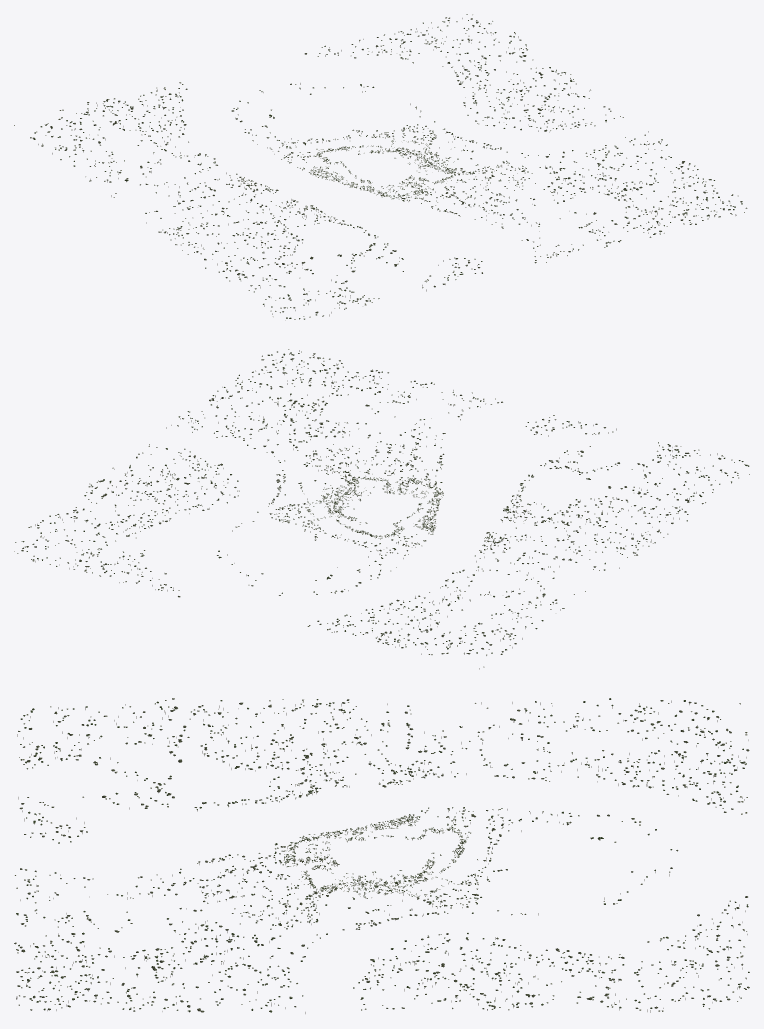
The model's file is optus_backdrop_part2.glb.
The picture shows the model from 3 angles, top to bottom: view 1: azimuth 30°, elevation 25°; view 2: azimuth 150°, elevation 25°; view 3: azimuth 270°, elevation 25°; orthographic projection. The views are drawn at different scales.
Visible parts, largest first — view 1: bg_trees_joined_s08, bg_trees_joined_s12, bg_trees_joined_s11, bg_trees_joined_s10, bg_trees_joined_s15, bg_trees_joined_s14, bg_trees_joined_s09; view 2: bg_trees_joined_s08, bg_trees_joined_s12, bg_trees_joined_s11, bg_trees_joined_s10, bg_trees_joined_s15, bg_trees_joined_s14, bg_trees_joined_s09; view 3: bg_trees_joined_s08, bg_trees_joined_s12, bg_trees_joined_s11, bg_trees_joined_s10, bg_trees_joined_s15, bg_trees_joined_s14, bg_trees_joined_s09, bg_trees_joined_s03, bg_trees_joined_s02, bg_trees_joined_s13, bg_trees_joined_s04.
Boxes of the visible parts, box(x1,y1,x2,y2) form: bg_trees_joined_s08: box(158, 193, 346, 320); bg_trees_joined_s12: box(420, 20, 611, 130); bg_trees_joined_s11: box(506, 116, 747, 208); bg_trees_joined_s10: box(454, 184, 744, 263); bg_trees_joined_s15: box(14, 125, 270, 223); bg_trees_joined_s14: box(45, 82, 274, 144); bg_trees_joined_s09: box(287, 224, 482, 319); bg_trees_joined_s08: box(509, 465, 749, 557); bg_trees_joined_s12: box(15, 452, 241, 548); bg_trees_joined_s11: box(148, 351, 344, 470); bg_trees_joined_s10: box(284, 349, 502, 457); bg_trees_joined_s15: box(440, 533, 619, 667); bg_trees_joined_s14: box(279, 564, 479, 669); bg_trees_joined_s09: box(518, 415, 748, 491); bg_trees_joined_s08: box(33, 698, 382, 803); bg_trees_joined_s12: box(382, 914, 721, 1012); bg_trees_joined_s11: box(30, 910, 382, 1013); bg_trees_joined_s10: box(14, 860, 251, 1005); bg_trees_joined_s15: box(382, 698, 740, 783); bg_trees_joined_s14: box(529, 716, 749, 851); bg_trees_joined_s09: box(17, 708, 248, 843); bg_trees_joined_s03: box(266, 871, 382, 929); bg_trees_joined_s02: box(211, 855, 339, 908); bg_trees_joined_s13: box(520, 867, 749, 1001); bg_trees_joined_s04: box(382, 870, 498, 920).
Size of the model in its own units: 3000 by 70.61 by 3008.
1 material, 1 textured.
